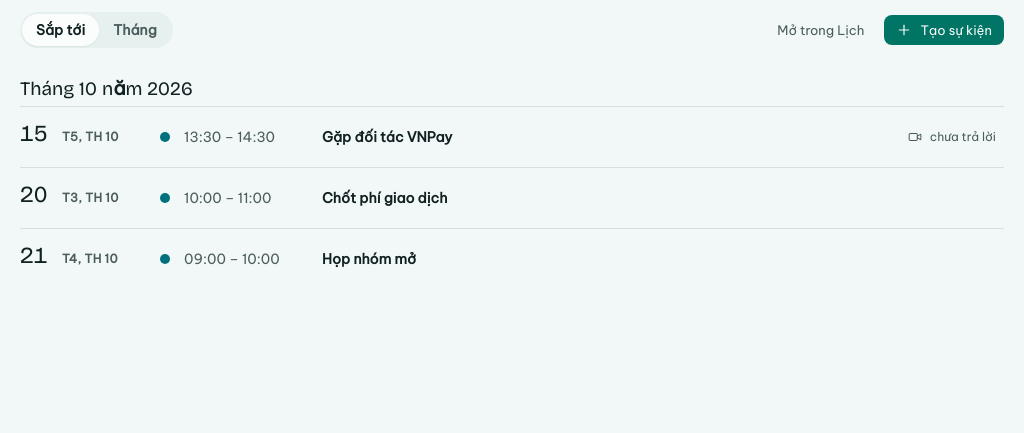
Test: the Lịch tab of a group › has a small month with the days that have events marked, and lists the day that is chosen
The image size is (1024, 433).
Expected: the element with test id "agenda" is shown, [0,60,1023,309]
Click the radio button labelled "Tháng": (135, 30) [99,14,171,46]
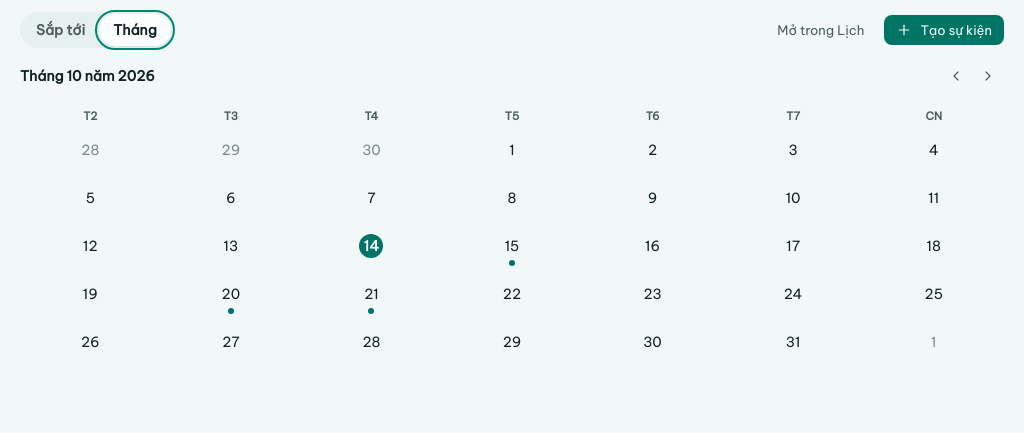
Expected: the button named "20 tháng 10, 1 sự kiện" is shown, [161,276,301,320]
Result: the button named "16 tháng 10" is shown at [582,228,723,272]
Click the button named "15 tháng 10, 1 sự kiện": (512, 250) [442,228,582,272]
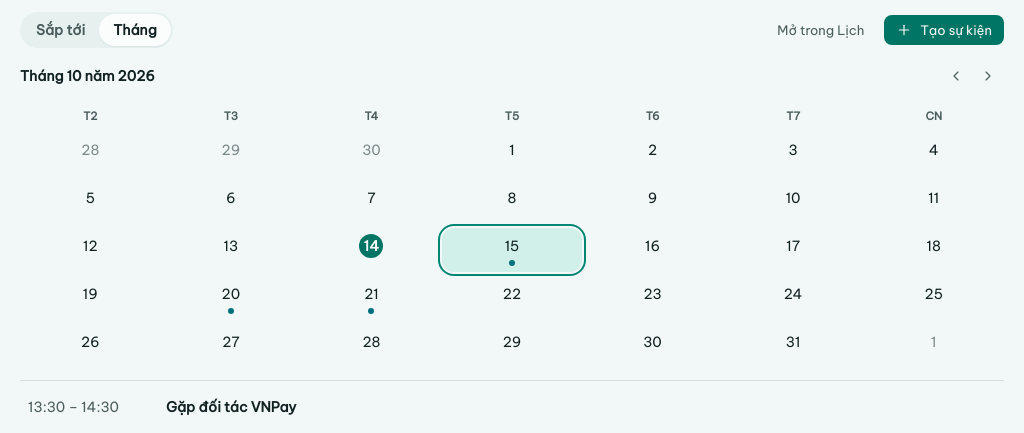
Expected: the button "Chốt phí giao dịch" is not shown
Result: the text "Gặp đối tác VNPay" is shown at [166,398,296,416]
